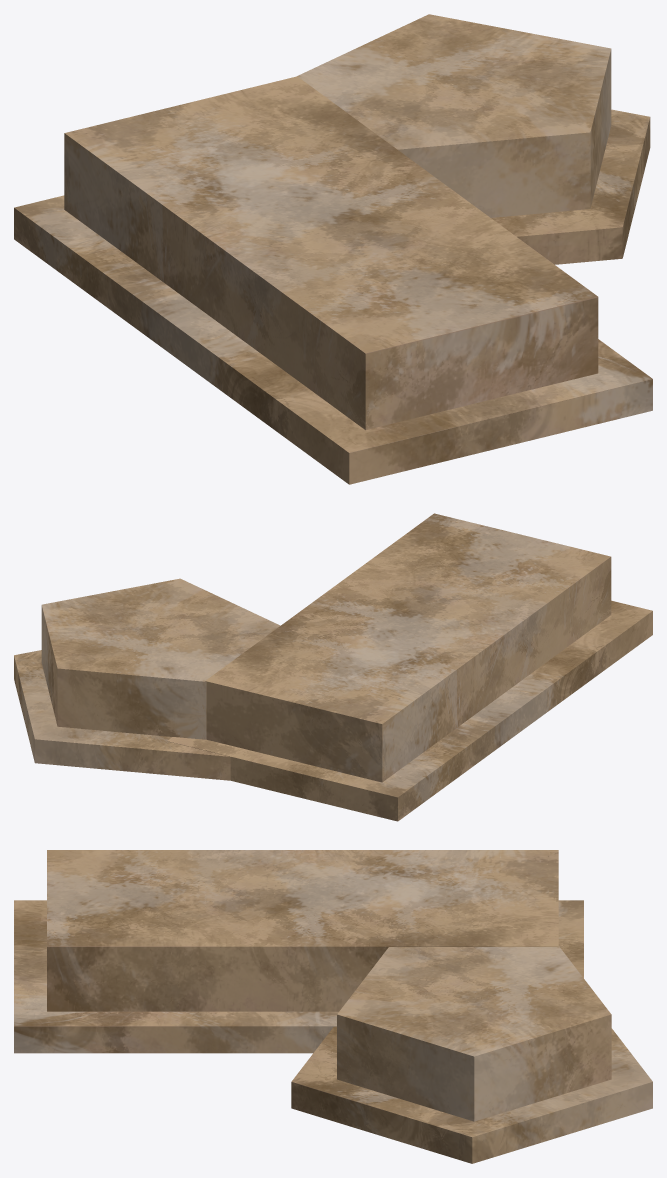
Rendered from resp_spot.fbx.
3 renders of one model, top to bottom at view 1: azimuth 30°, elevation 25°; view 2: azimuth 150°, elevation 25°; view 3: azimuth 270°, elevation 25°, orthographic. The views are drawn at different scales.
Visible parts, largest first — view 1: Cylinder002; view 2: Cylinder002; view 3: Cylinder002.
Part boxes in pixels (x1,y1,x2,y2): Cylinder002: (14,14,652,484); Cylinder002: (14,513,652,821); Cylinder002: (14,850,652,1163).
Bounding box in the file's own units: 16.83 × 3.06 × 19.22.
